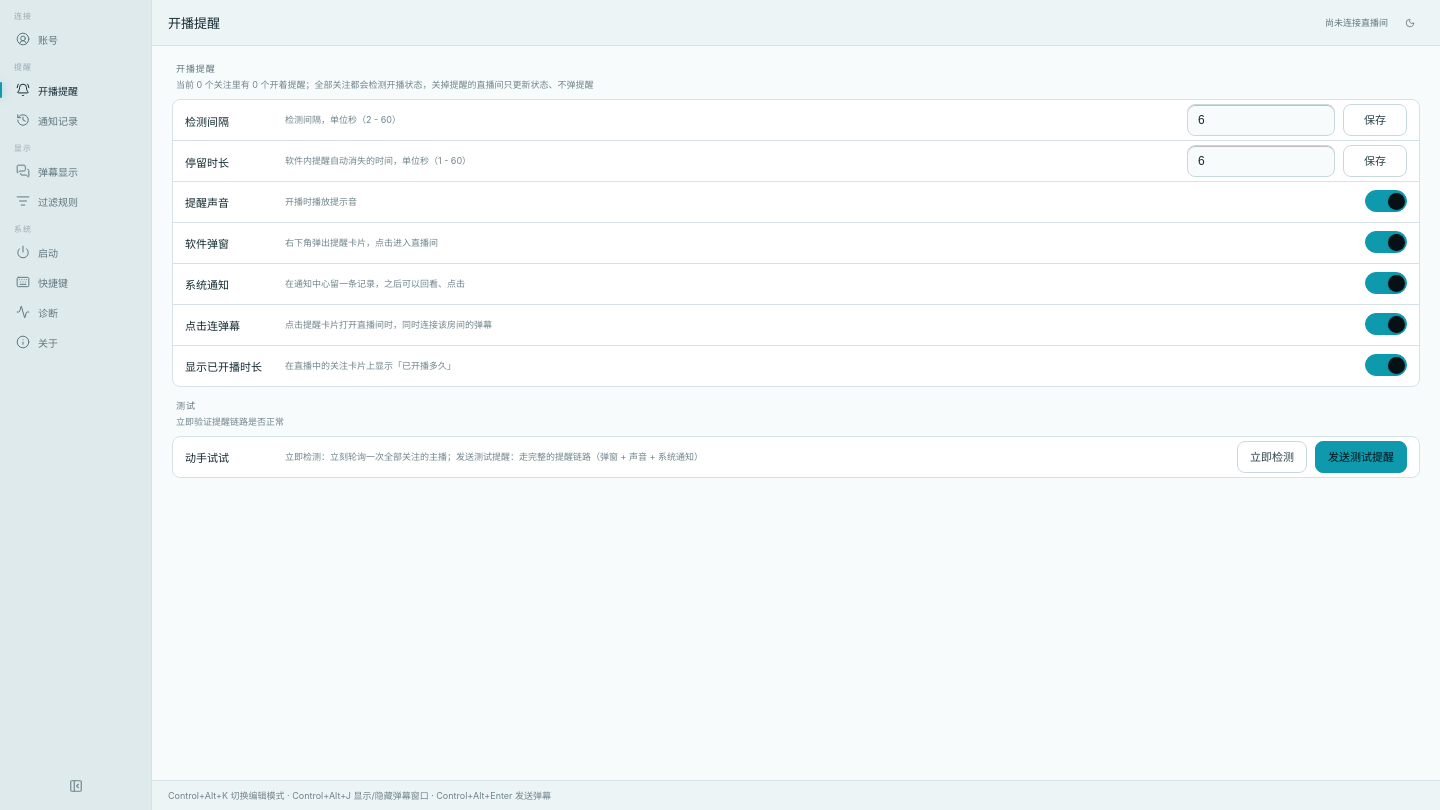
Test: switches existing pages through the new control shell
Check: the heading "开播提醒" in the row of "尚未连接直播间" is shown, box [168,13,220,32]
Click the button "弹幕显示". click: {"x": 76, "y": 171}
box: [8,157,143,185]
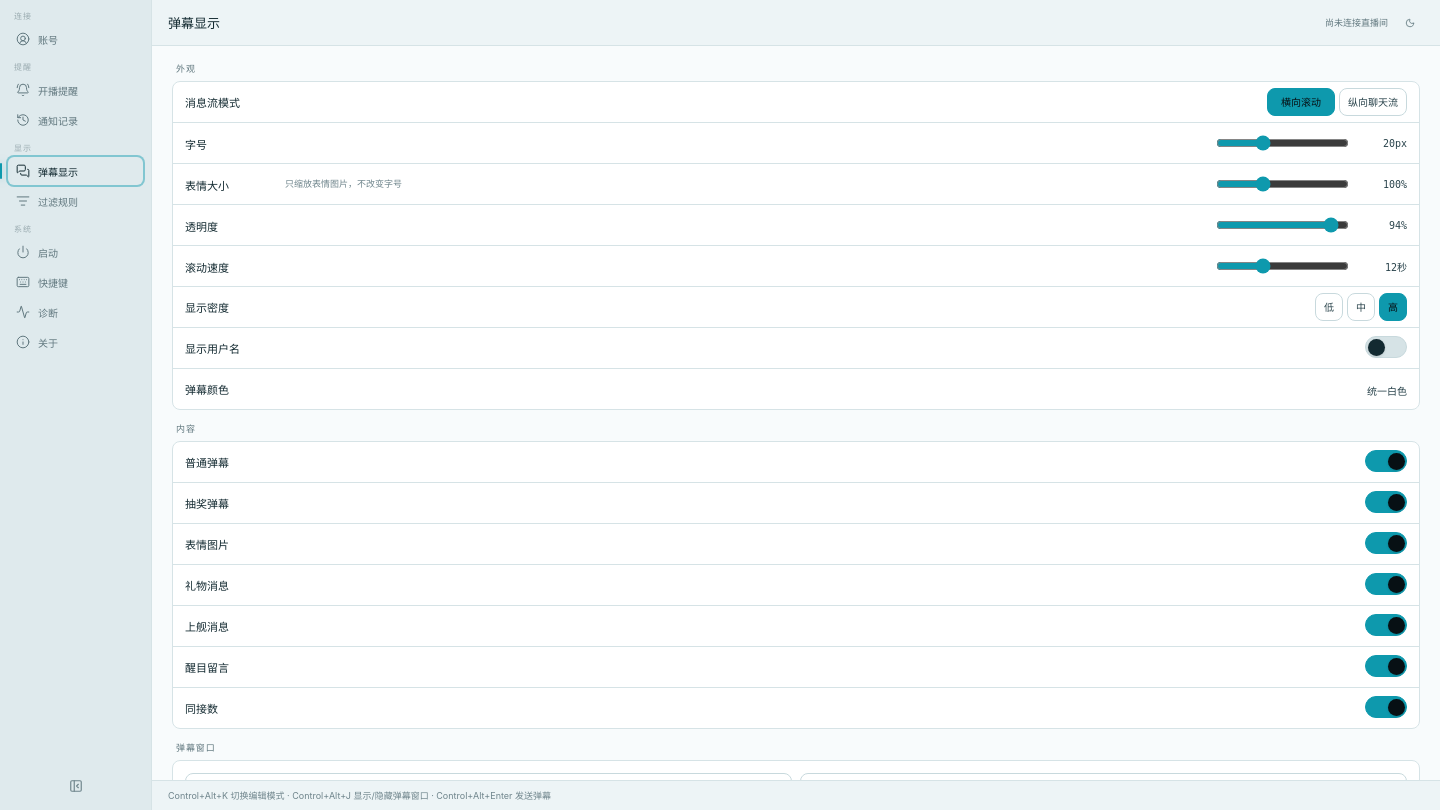
Check: the button named "收起侧边栏" is shown, box [8,772,143,800]
Check: the heading "弹幕显示" is shown, box [168,13,220,32]
Check: the text "字号" is shown, box [185,138,207,152]
